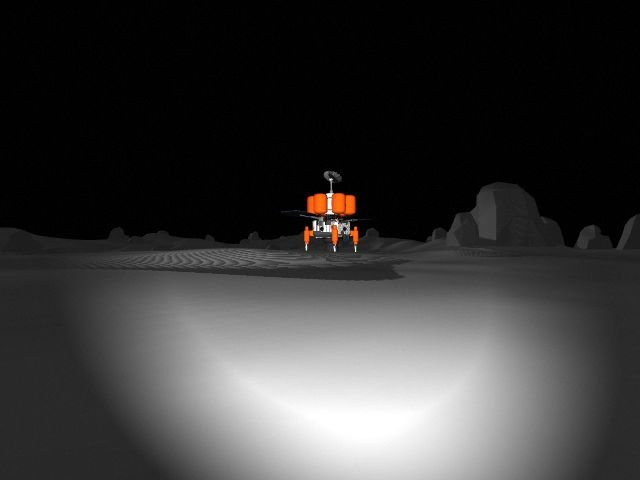homebase: (280, 169, 376, 255)
